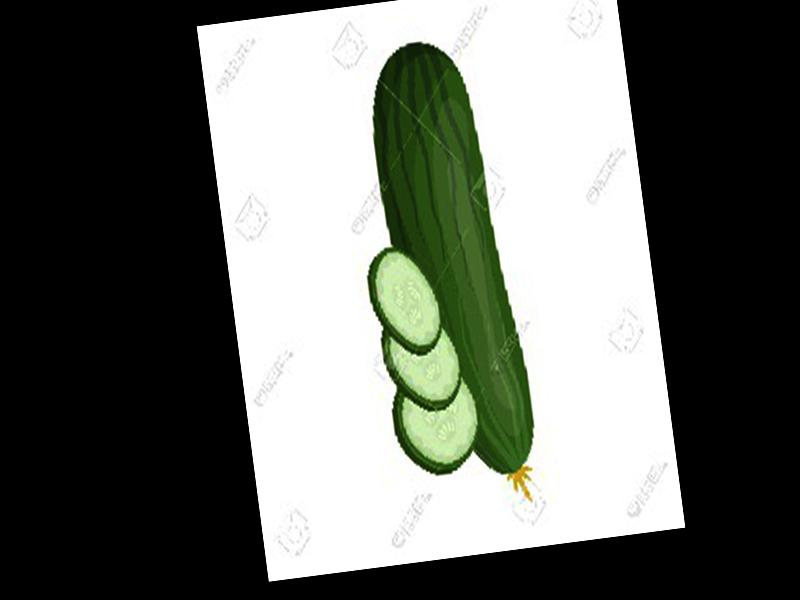Cucumber: (361, 31, 542, 511)
